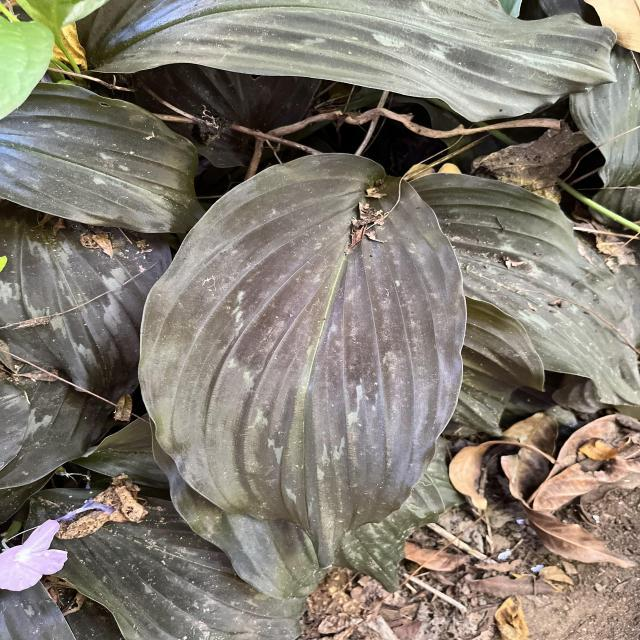Kaempferia galanga linn: (133, 148, 470, 573)
